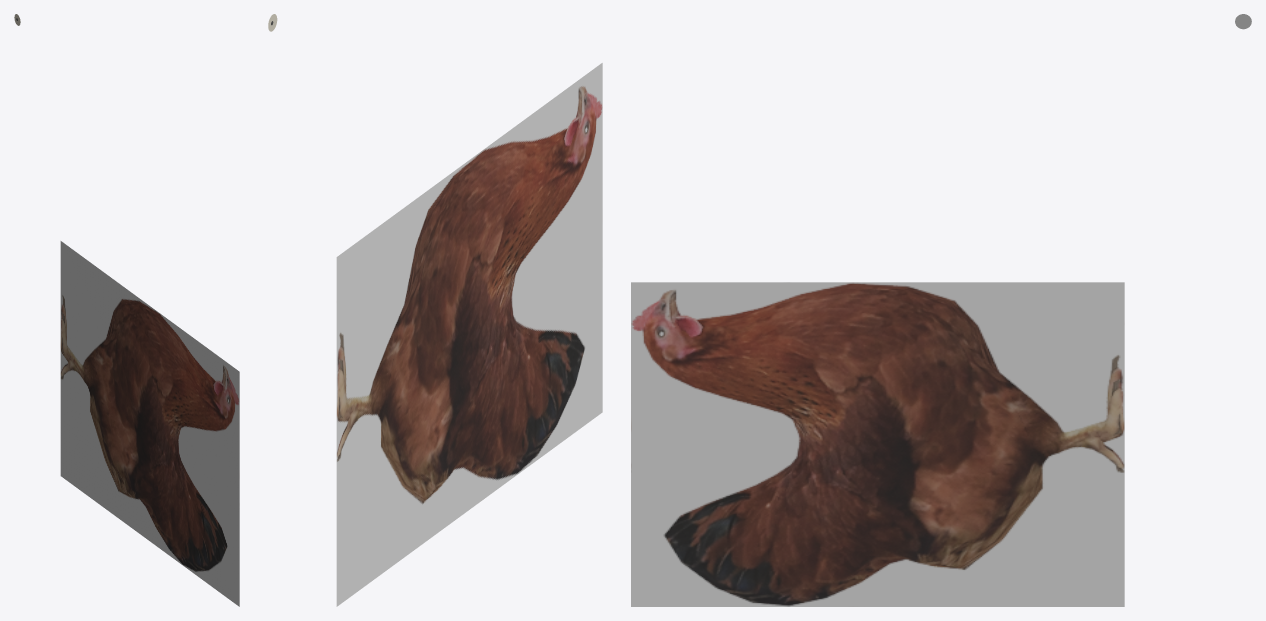
The picture shows the model from 3 angles, left to right: view 1: azimuth 30°, elevation 25°; view 2: azimuth 150°, elevation 25°; view 3: azimuth 270°, elevation 25°; orthographic projection. The views are drawn at different scales.
Parts seen in each view (by area): view 1: image_0; view 2: image_0; view 3: image_0.
Part boxes in pixels (x1,y1,x2,y2): image_0: (60,241,239,606); image_0: (336,63,602,606); image_0: (631,282,1124,606).
Bounding box in the file's own units: 4.58e-08 × 0.4632 × 0.4395.
